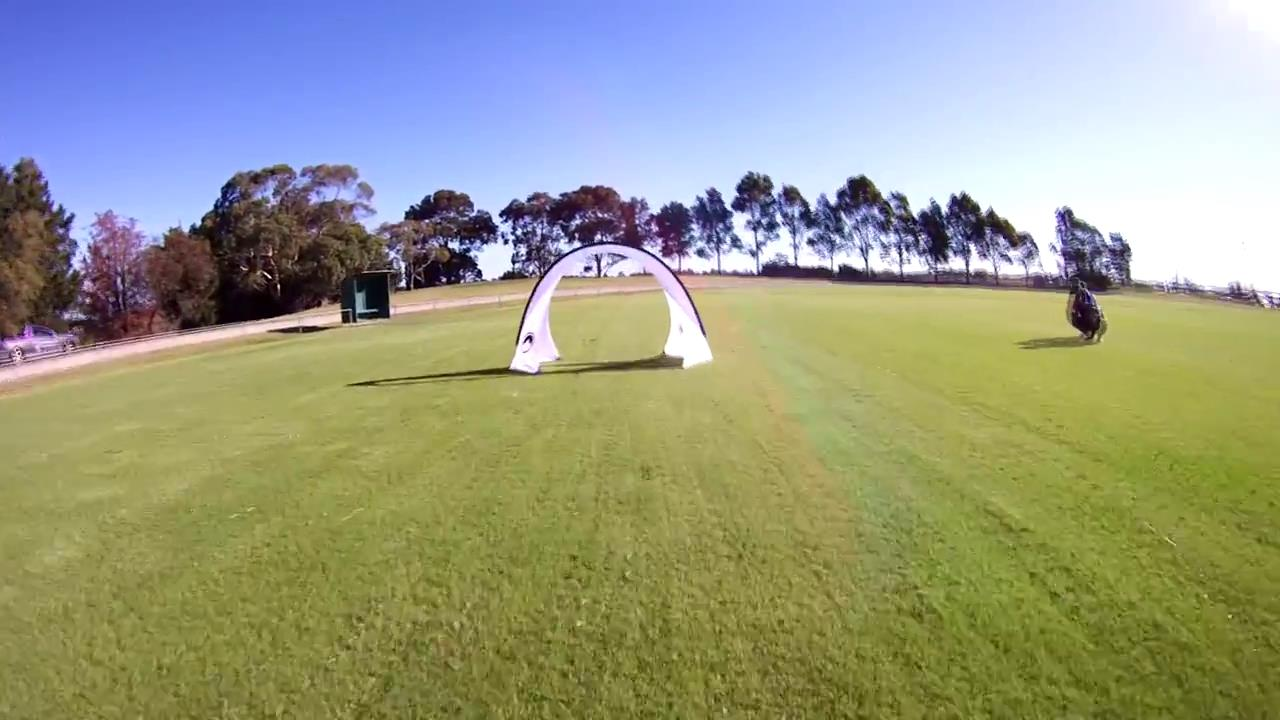gate: (508, 242, 719, 376)
